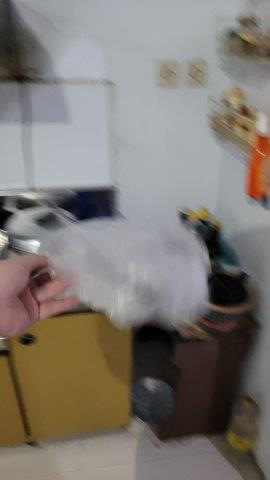plastik: (38, 215, 210, 330)
